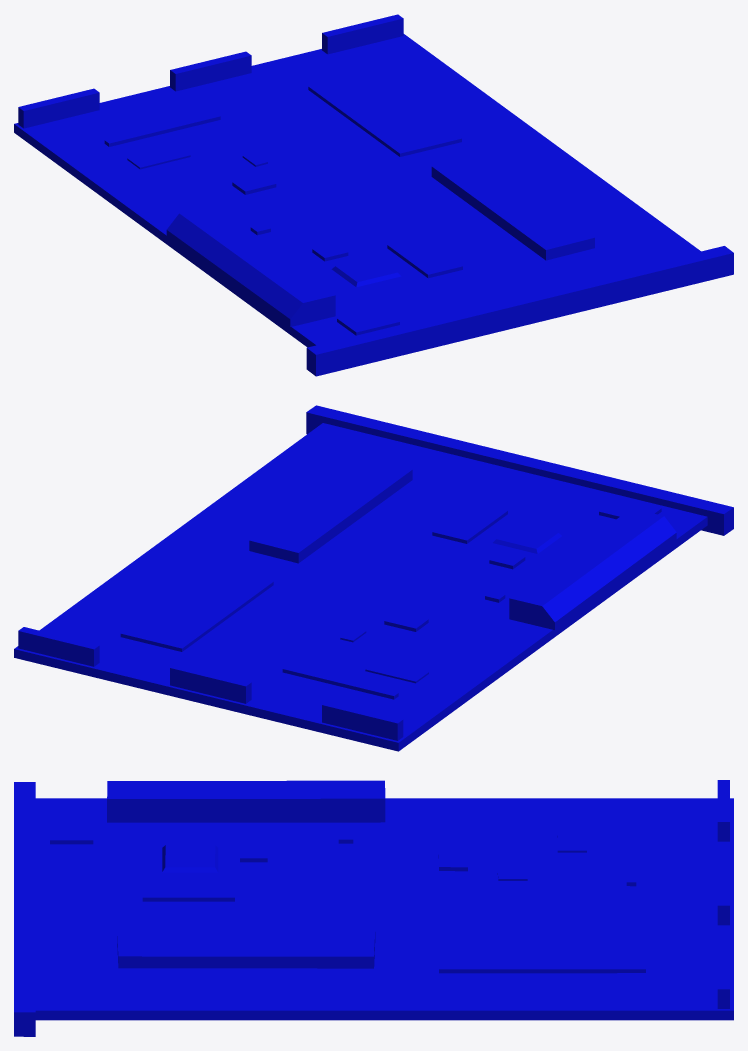
File: CircuitBoard_Low.FBX
3 views of the same model, one above another, from view 1: azimuth 30°, elevation 25°; view 2: azimuth 150°, elevation 25°; view 3: azimuth 270°, elevation 25° (orthographic). The views are drawn at different scales.
Visible parts, largest first — view 1: Circuitboard_Low; view 2: Circuitboard_Low; view 3: Circuitboard_Low.
Boxes of the visible parts, bbox=[...] form: Circuitboard_Low: bbox=[14, 14, 733, 376]; Circuitboard_Low: bbox=[14, 405, 733, 751]; Circuitboard_Low: bbox=[14, 780, 733, 1036].
Bounding box in the file's own units: 3.71 × 0.3071 × 4.9.
